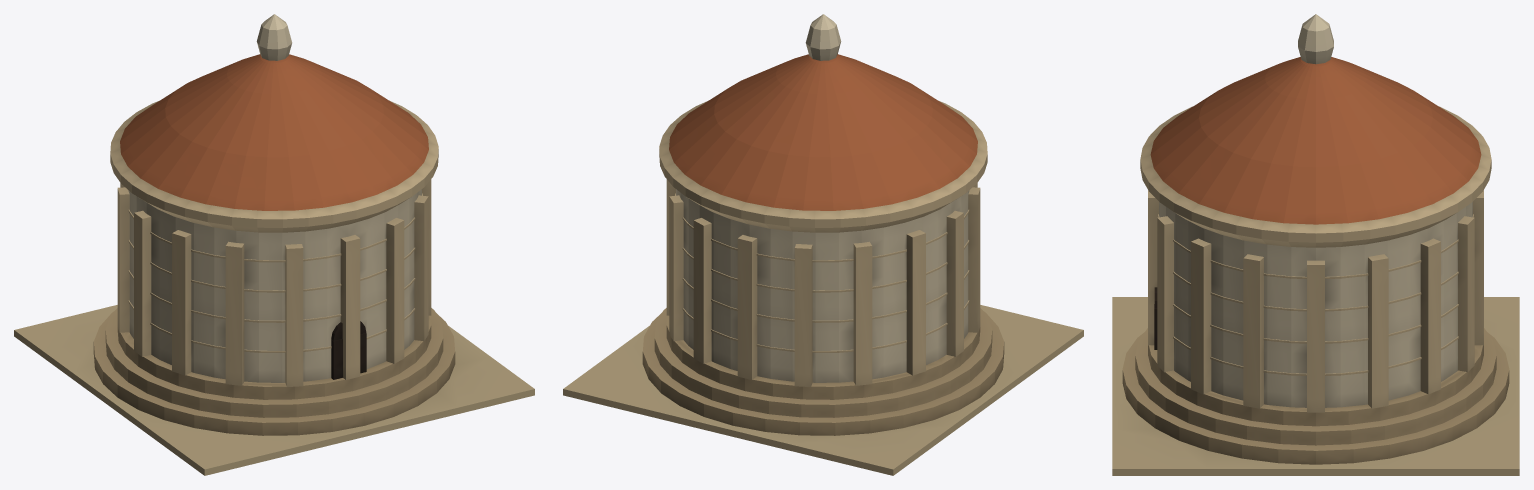
File: roman-mausoleum.glb
The picture shows the model from 3 angles, left to right: view 1: azimuth 30°, elevation 25°; view 2: azimuth 150°, elevation 25°; view 3: azimuth 270°, elevation 25°; orthographic projection. The views are drawn at different scales.
Parts seen in each view (by area): view 1: p1_drum, p0_base, p2_roof; view 2: p1_drum, p0_base, p2_roof; view 3: p1_drum, p2_roof, p0_base.
Boxes of the visible parts, x1,y1,x2,y2 form: p1_drum: (110,100,438,386); p0_base: (14,305,534,475); p2_roof: (120,14,428,210); p1_drum: (659,100,987,386); p0_base: (563,305,1083,475); p2_roof: (669,14,977,210); p1_drum: (1140,106,1491,412); p2_roof: (1150,14,1481,224); p0_base: (1112,297,1519,475).
Bounding box in the file's own units: 16 × 16.3 × 16.
